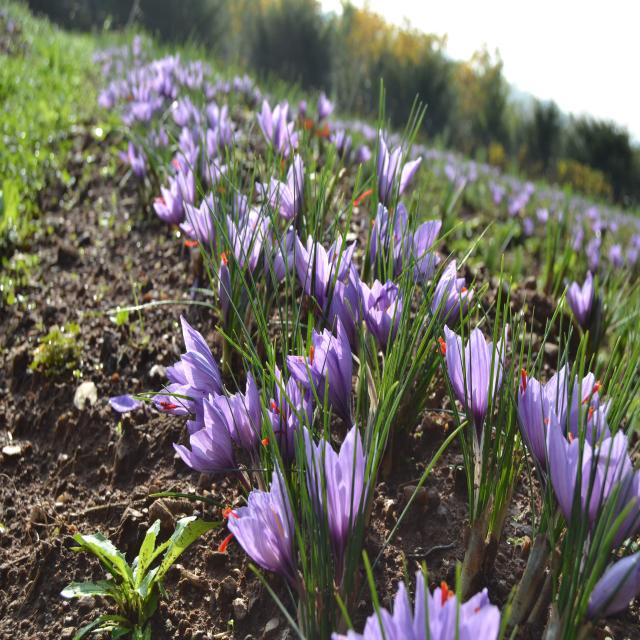saffron open: (304, 428, 369, 587), (228, 469, 298, 591), (152, 315, 222, 431), (444, 324, 492, 441), (518, 368, 568, 471), (174, 399, 239, 472), (359, 279, 402, 352), (431, 261, 474, 326), (566, 272, 594, 330), (154, 178, 184, 225), (491, 341, 504, 396)
